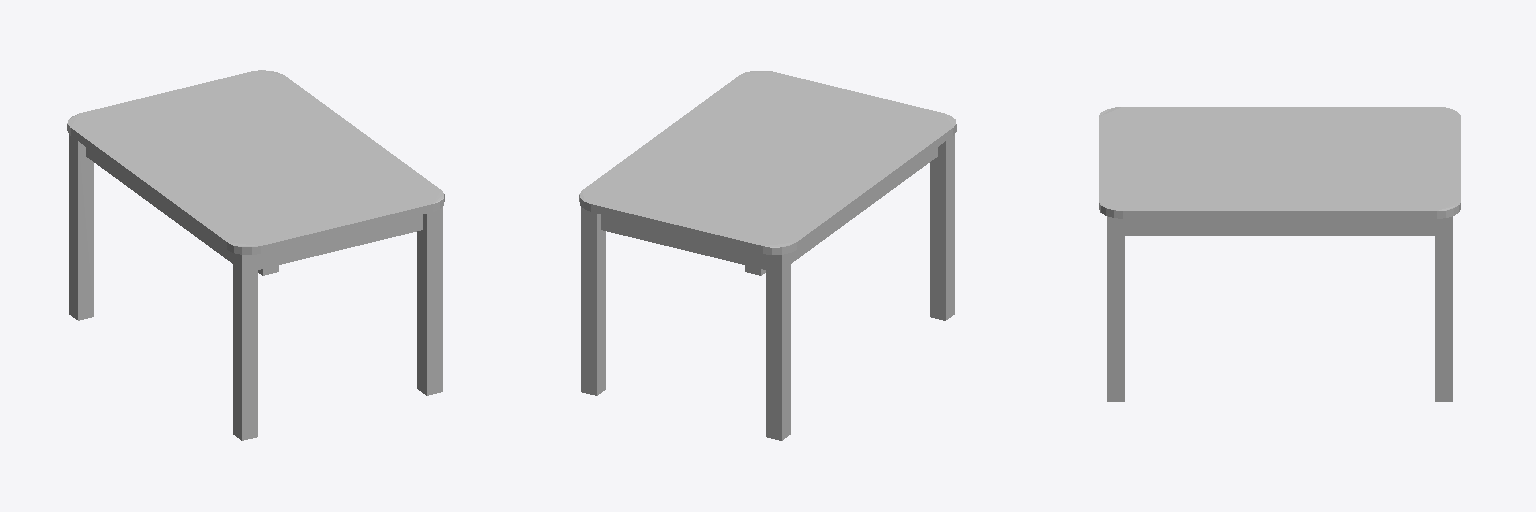
File: Table01.obj
3 renders of one model, left to right at view 1: azimuth 30°, elevation 25°; view 2: azimuth 150°, elevation 25°; view 3: azimuth 270°, elevation 25°, orthographic.
Visible parts, largest first — view 1: Table01_LOD0_Plane.012; view 2: Table01_LOD0_Plane.012; view 3: Table01_LOD0_Plane.012.
Part boxes in pixels (x1,y1,x2,y2): Table01_LOD0_Plane.012: (67,70,444,440); Table01_LOD0_Plane.012: (579,71,956,440); Table01_LOD0_Plane.012: (1099,107,1460,401).
Size of the model in its own units: 0.8398 by 0.7283 by 1.23.